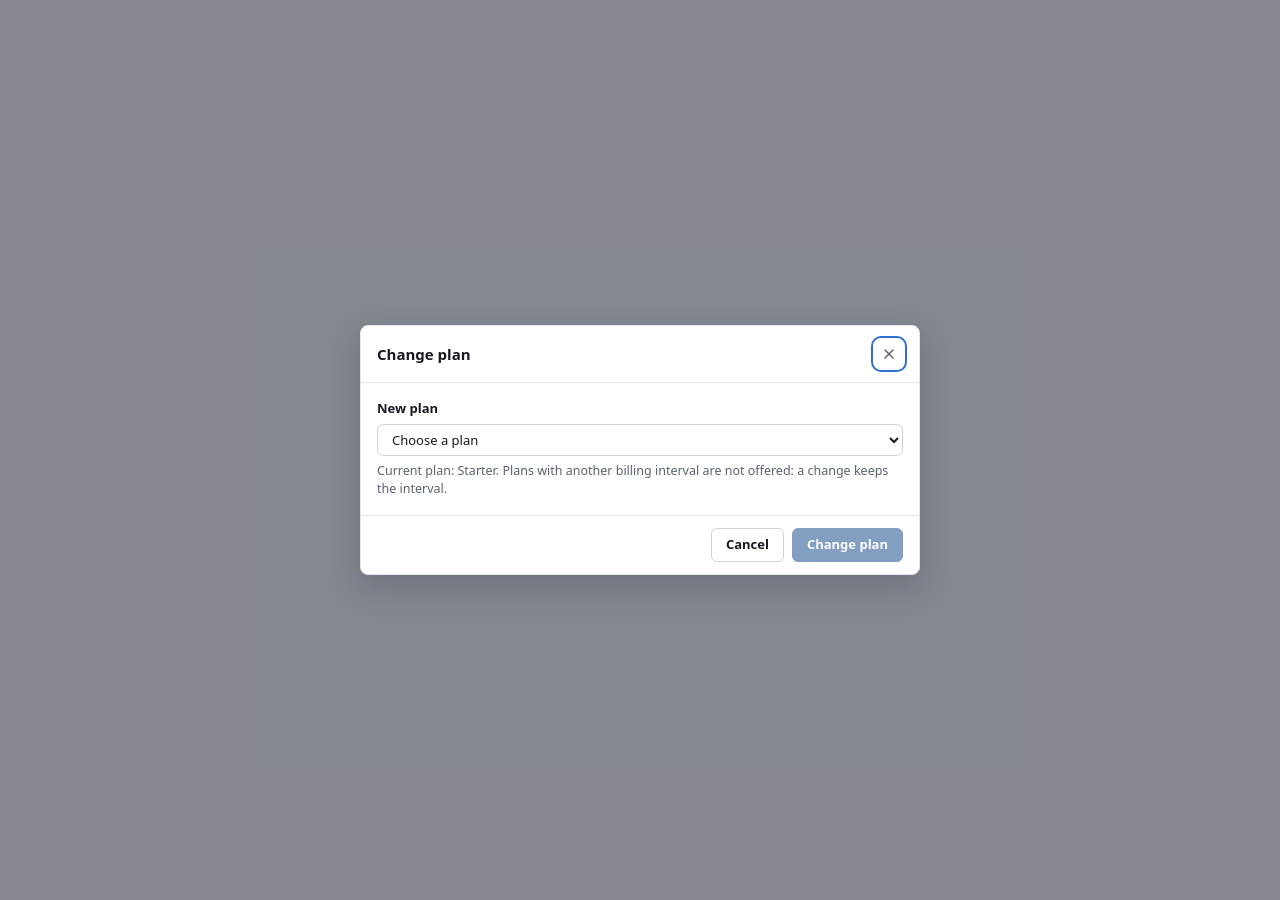
Test case: ChangePlanDialog › shows how much of an upgrade the customer credit pays and what the card is charged
The image size is (1280, 900).
Select "Team · €29.00 per month" in the dropdown at x=640, y=440, box [377,424,903,456]
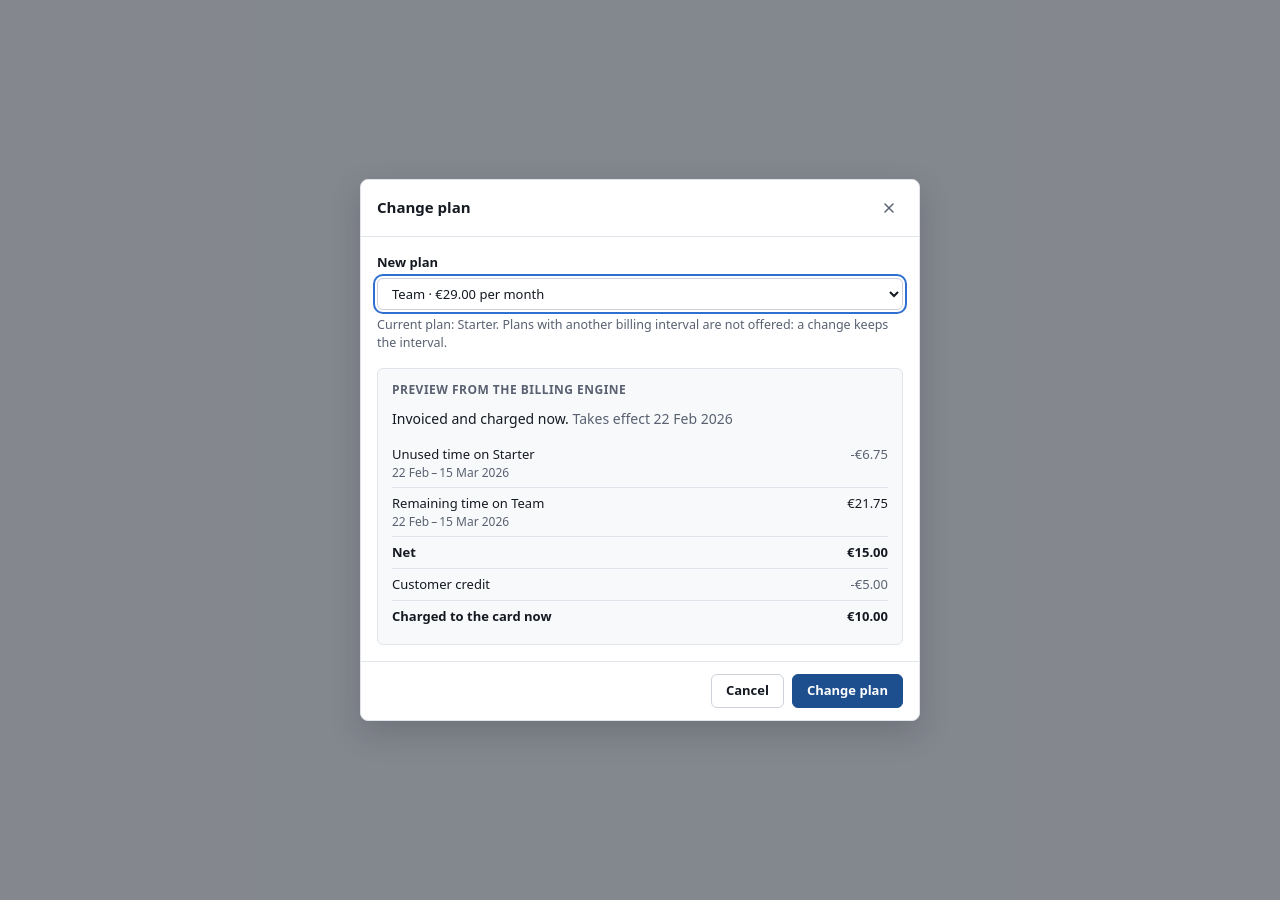
expect the row "Customer credit -€5.00" is shown: met, box [392,569,888,600]
expect the row "Charged to the card now €10.00" is shown: met, box [392,600,888,632]
